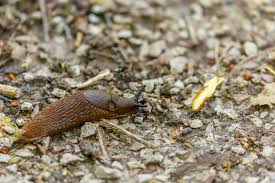slug: (22, 85, 146, 139)
